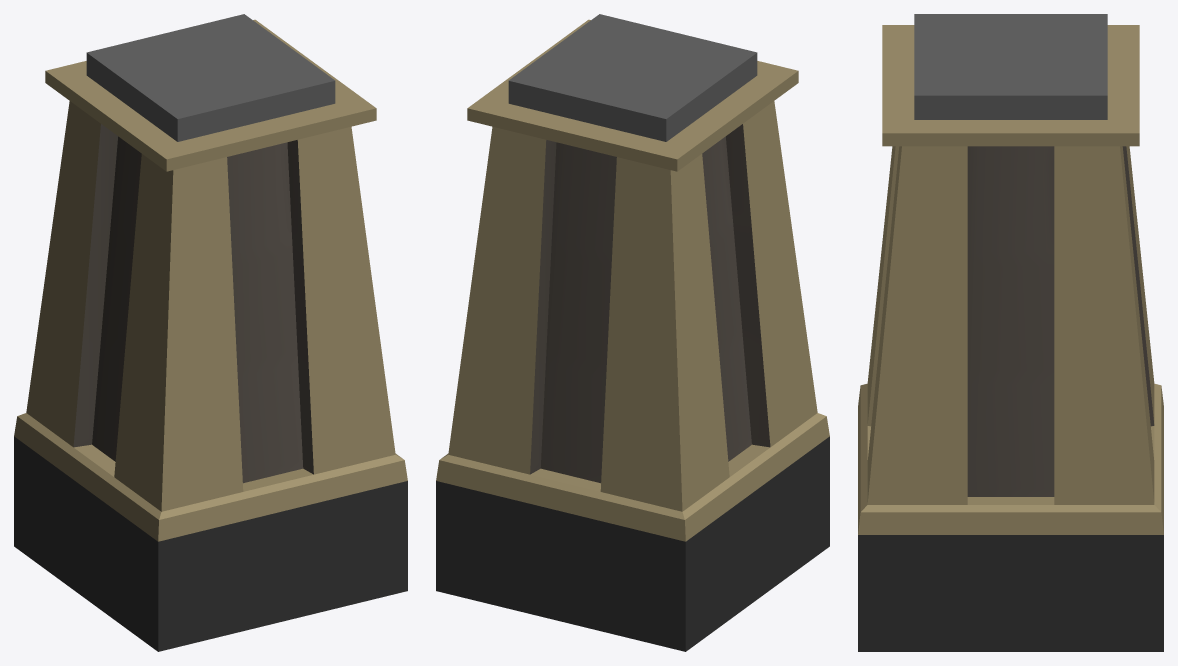
Rendered from RobotPillar.fbx.
The picture shows the model from 3 angles, left to right: view 1: azimuth 30°, elevation 25°; view 2: azimuth 150°, elevation 25°; view 3: azimuth 270°, elevation 25°; orthographic projection. The views are drawn at different scales.
Visible parts, largest first — view 1: pillar; view 2: pillar; view 3: pillar.
Boxes of the visible parts, x1,y1,x2,y2 form: pillar: (14,14,407,651); pillar: (436,14,829,651); pillar: (858,14,1163,651).
Size of the model in its own units: 1.93 by 3.7 by 1.93.
